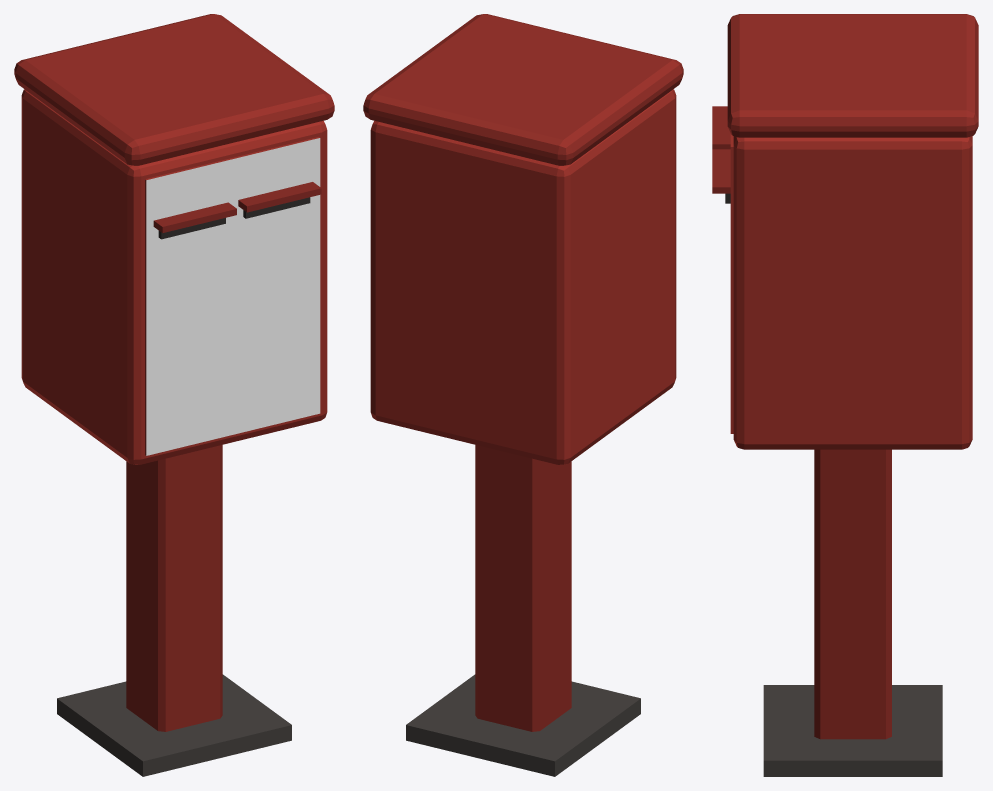
Rendered from prop_post_box_01.glb.
3 renders of one model, left to right at view 1: azimuth 30°, elevation 25°; view 2: azimuth 150°, elevation 25°; view 3: azimuth 270°, elevation 25°, orthographic. The views are drawn at different scales.
Visible parts, largest first — view 1: prop_post_box_01; view 2: prop_post_box_01; view 3: prop_post_box_01.
Part boxes in pixels (left/top/right/bottom): prop_post_box_01: left=14, top=14, right=334, bottom=776; prop_post_box_01: left=363, top=14, right=683, bottom=776; prop_post_box_01: left=712, top=14, right=978, bottom=776.
Bounding box in the file's own units: 0.42 × 1.25 × 0.4455.
